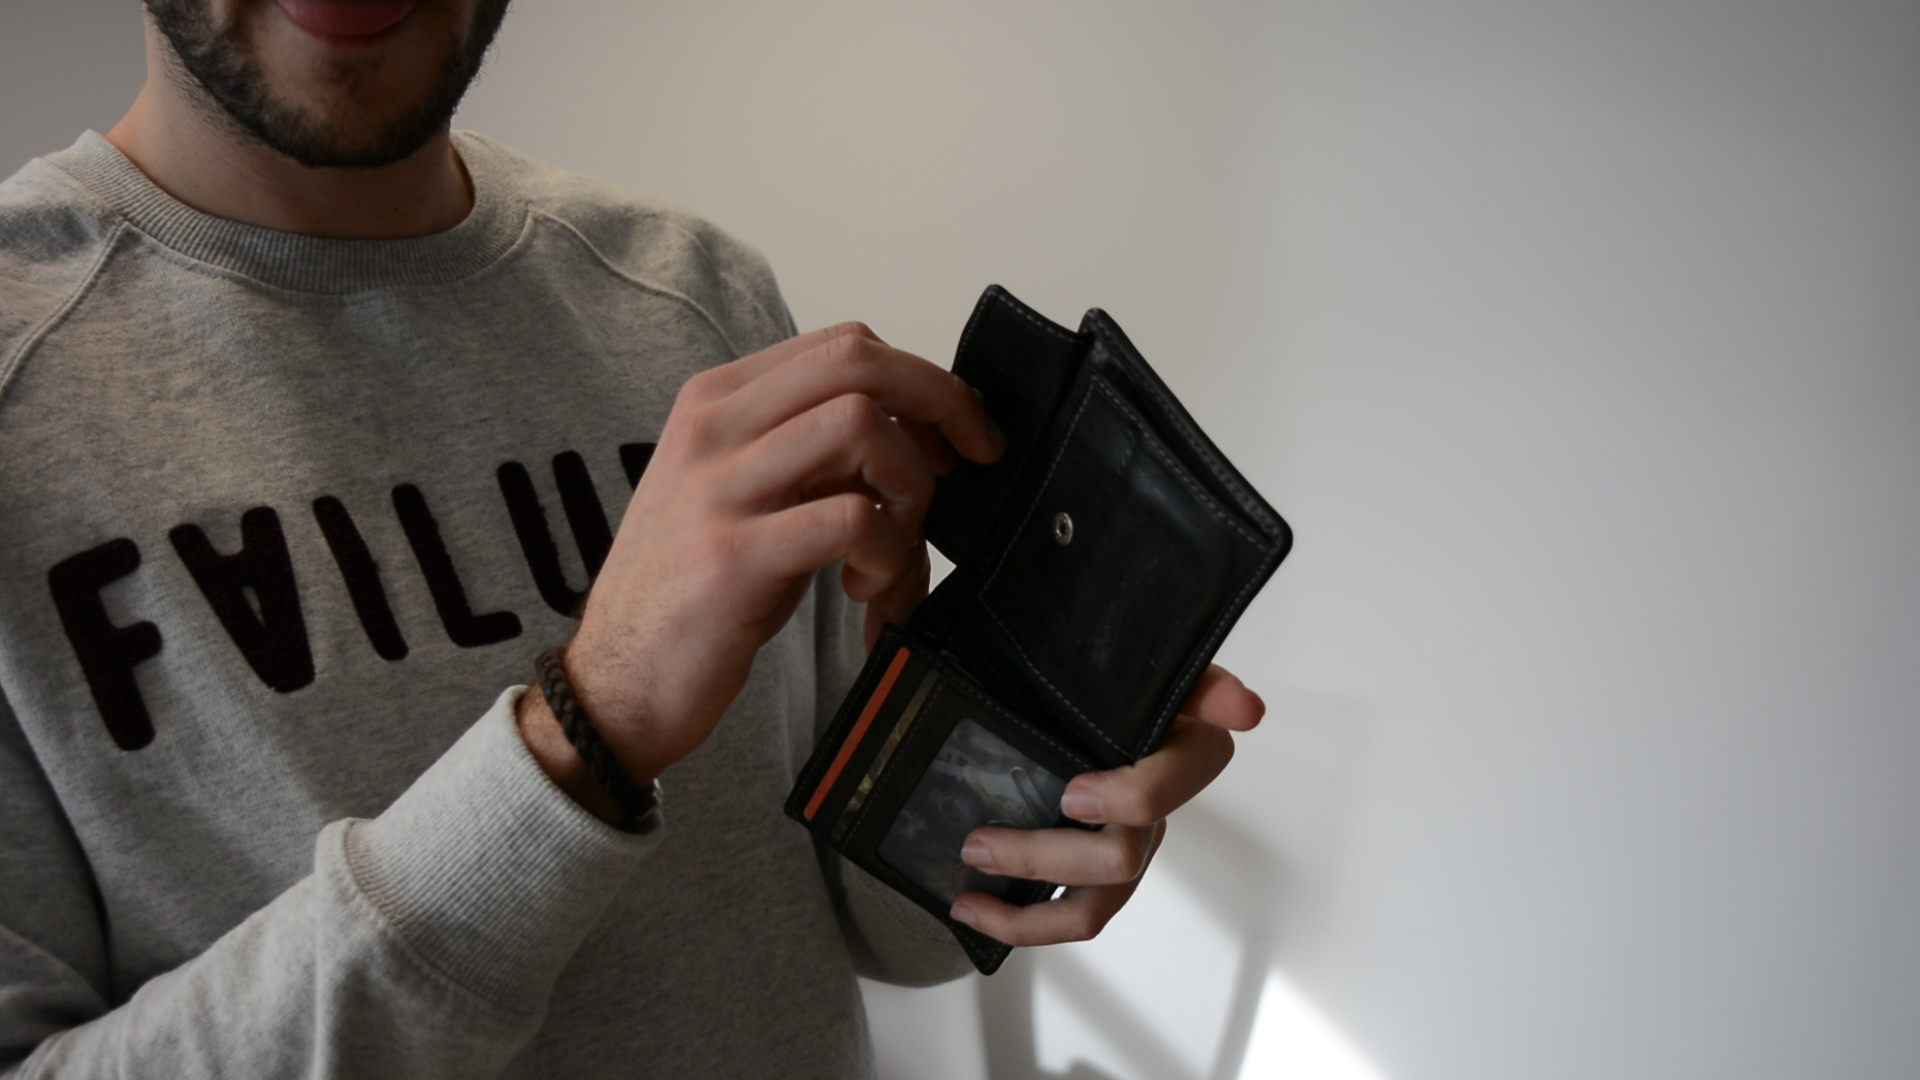monedero: (781, 277, 1298, 980)
